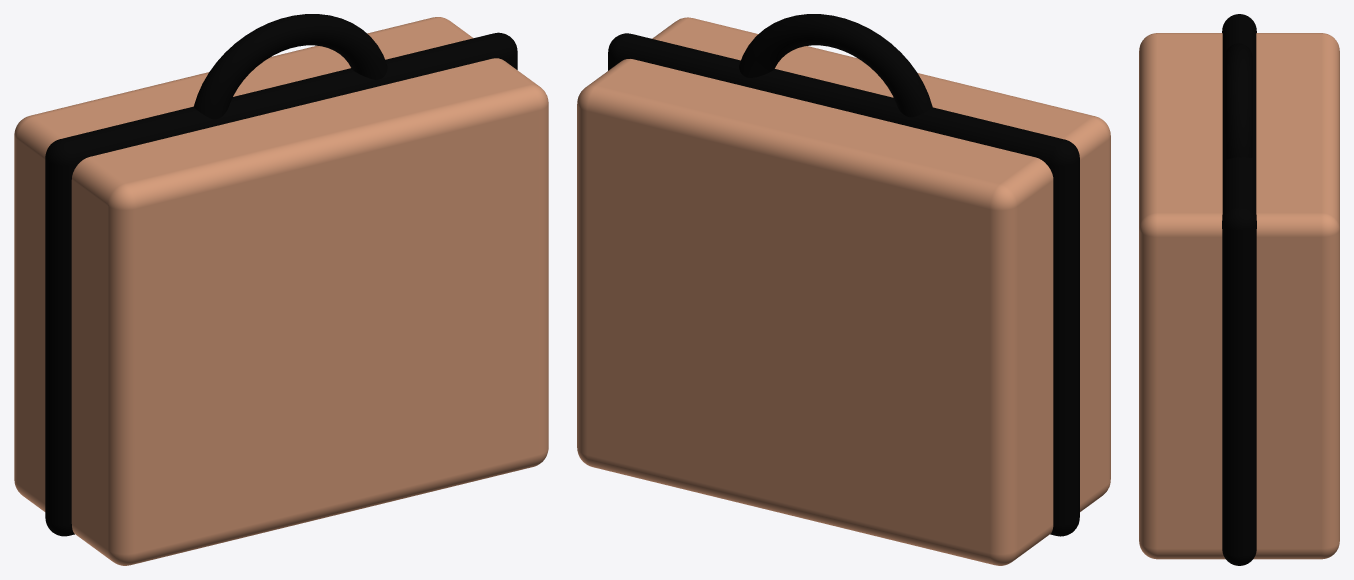
The model's file is BriefcaseV6.obj.
The picture shows the model from 3 angles, left to right: view 1: azimuth 30°, elevation 25°; view 2: azimuth 150°, elevation 25°; view 3: azimuth 270°, elevation 25°; orthographic projection. The views are drawn at different scales.
Parts seen in each view (by area): view 1: 002_Box, 000_Box_1, 001_Cylinder; view 2: 002_Box, 000_Box_1, 001_Cylinder; view 3: 002_Box, 000_Box_1, 001_Cylinder.
Part boxes in pixels (x1,y1,x2,y2): 002_Box: [14, 17, 548, 565]; 000_Box_1: [45, 32, 517, 536]; 001_Cylinder: [193, 14, 387, 119]; 002_Box: [577, 17, 1110, 565]; 000_Box_1: [608, 33, 1079, 536]; 001_Cylinder: [739, 14, 932, 117]; 002_Box: [1139, 33, 1339, 559]; 000_Box_1: [1222, 14, 1256, 565]; 001_Cylinder: [1224, 43, 1252, 159].
Size of the model in its own units: 21.08 by 19.91 by 8.66.
